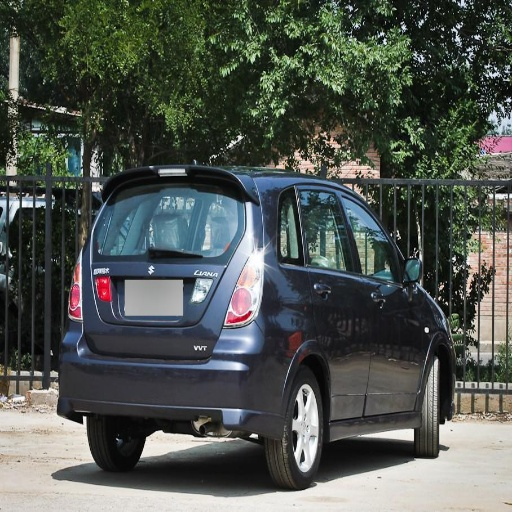back_bumper: (60, 316, 291, 436)
back_right_door: (279, 183, 376, 419)
tailgate: (84, 251, 225, 338)
